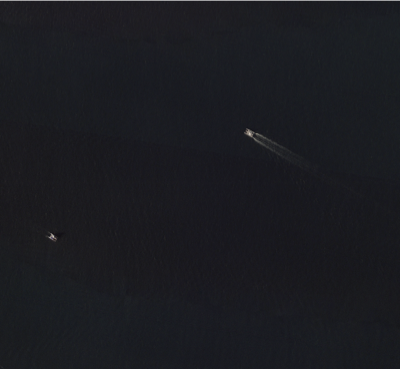boat: (244, 128, 256, 138), (48, 232, 59, 242)
